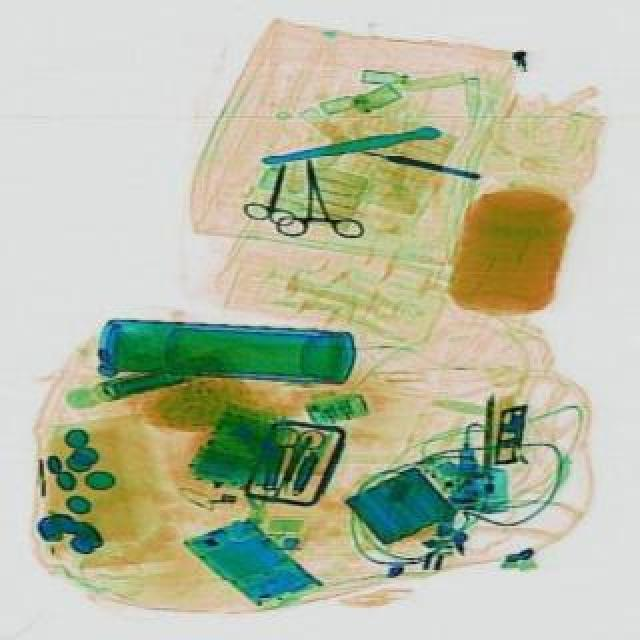pliers: (262, 152, 362, 248), (254, 420, 322, 496), (238, 156, 306, 228)
